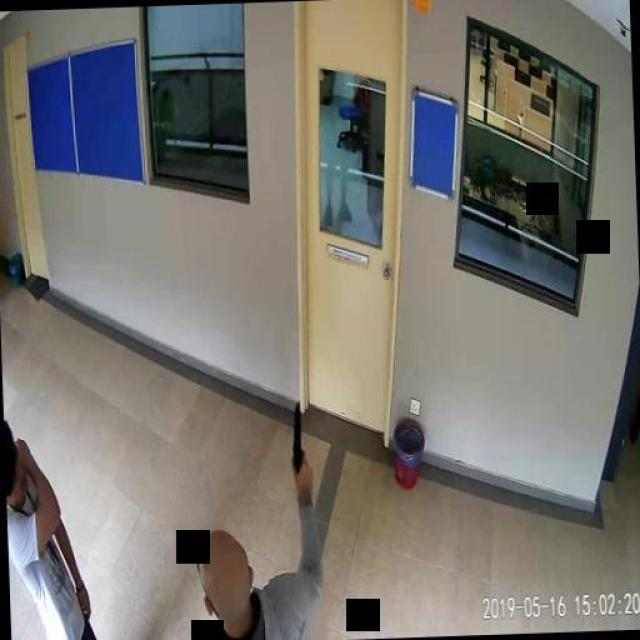gun: (289, 398, 311, 484)
